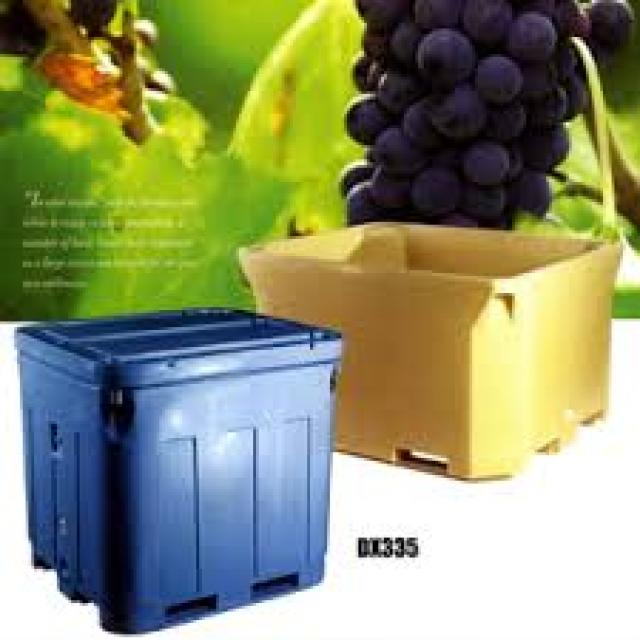basket: (16, 306, 351, 637), (225, 215, 622, 492)
